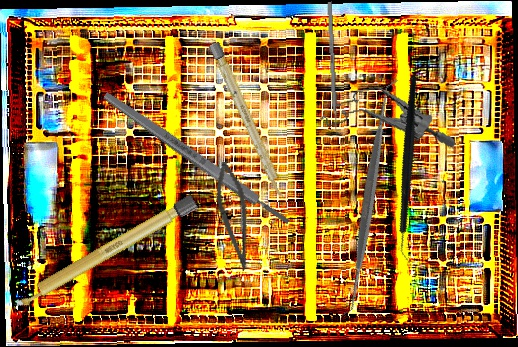Chopper: (340, 74, 482, 266)
Micro Scissor: (208, 159, 262, 273)
Pusher: (326, 1, 340, 144)
Scalpel Handle: (101, 88, 293, 229), (9, 193, 199, 312), (208, 41, 288, 200)
Spatula Surgical: (252, 78, 487, 317)
Speculum: (316, 73, 456, 170)
